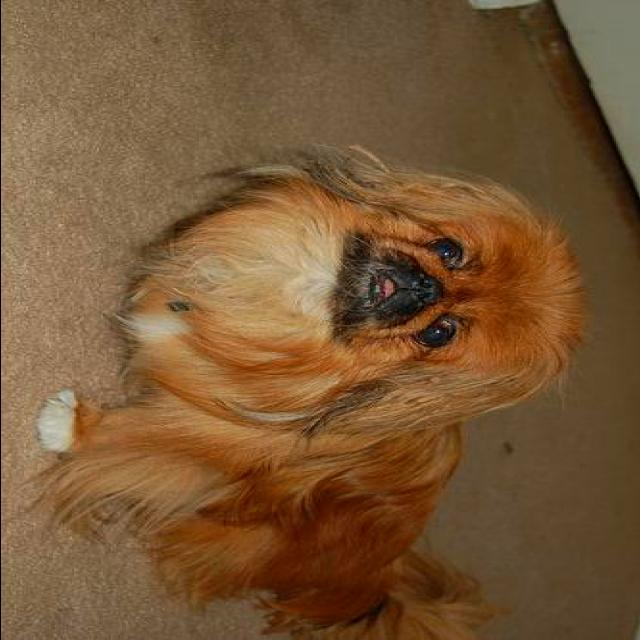pekinese: (21, 142, 582, 638)
